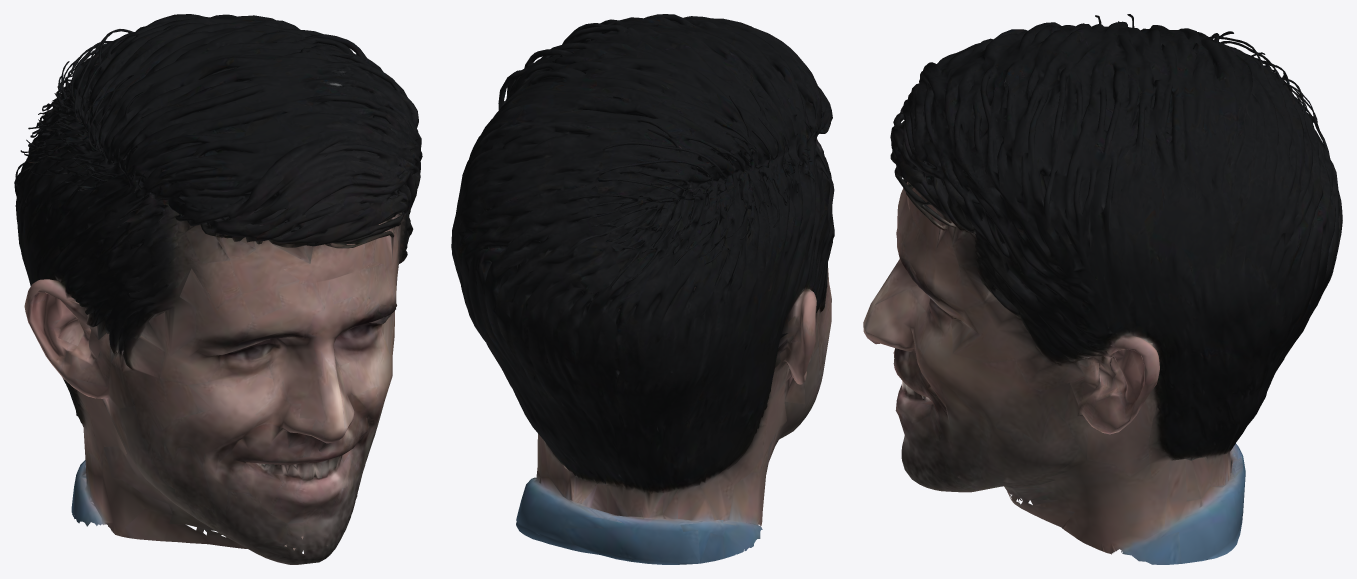
File: head_jason.glb
3 views of the same model, side by side, from view 1: azimuth 30°, elevation 25°; view 2: azimuth 150°, elevation 25°; view 3: azimuth 270°, elevation 25° (orthographic). The views are drawn at different scales.
Parts seen in each view (by area): view 1: Mesh_0; view 2: Mesh_0; view 3: Mesh_0.
Boxes of the visible parts, x1,y1,x2,y2 form: Mesh_0: (14, 14, 422, 564); Mesh_0: (451, 14, 834, 564); Mesh_0: (863, 14, 1342, 564).
Size of the model in its own units: 0.6918 by 0.8712 by 0.796.
Materials: 1 (1 with a texture image).
